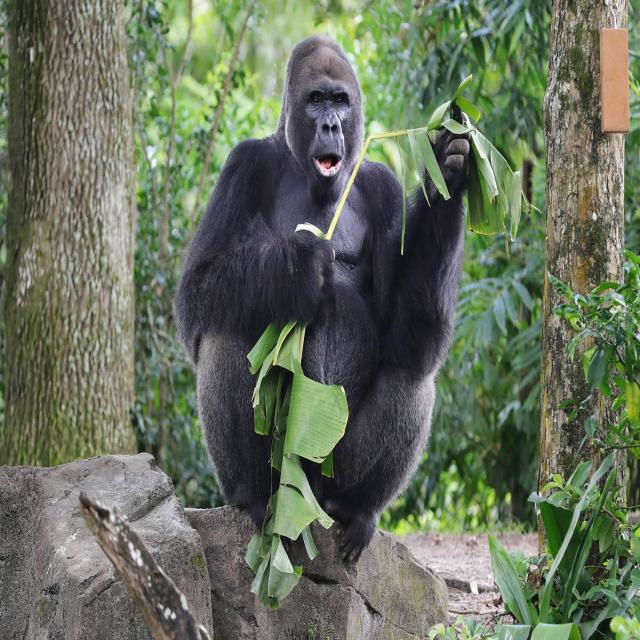Gorilla: (171, 31, 468, 548)
